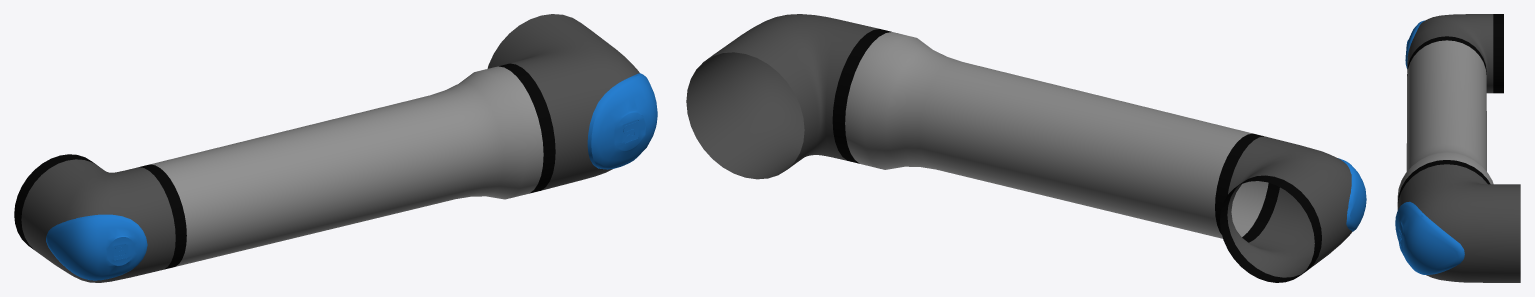
Rendered from upperarm.dae.
The picture shows the model from 3 angles, left to right: view 1: azimuth 30°, elevation 25°; view 2: azimuth 150°, elevation 25°; view 3: azimuth 270°, elevation 25°; orthographic projection. The views are drawn at different scales.
Visible parts, largest first — view 1: shoulder_001, shoulder_pad_Logo_002.002, shoulder_pad_Logo; view 2: shoulder_001, shoulder_pad_Logo_002.002; view 3: shoulder_001, shoulder_pad_Logo, shoulder_pad_Logo_002.002.
Part boxes in pixels (<box>): shoulder_001: <box>14,14,639,282</box>; shoulder_pad_Logo_002.002: <box>46,214,147,280</box>; shoulder_pad_Logo: <box>587,73,657,169</box>; shoulder_001: <box>686,14,1352,282</box>; shoulder_pad_Logo_002.002: <box>1338,158,1366,231</box>; shoulder_001: <box>1397,14,1520,282</box>; shoulder_pad_Logo: <box>1395,201,1464,274</box>; shoulder_pad_Logo_002.002: <box>1405,20,1425,68</box>.
Size of the model in its own units: 0.7864 by 0.1907 by 0.15.
